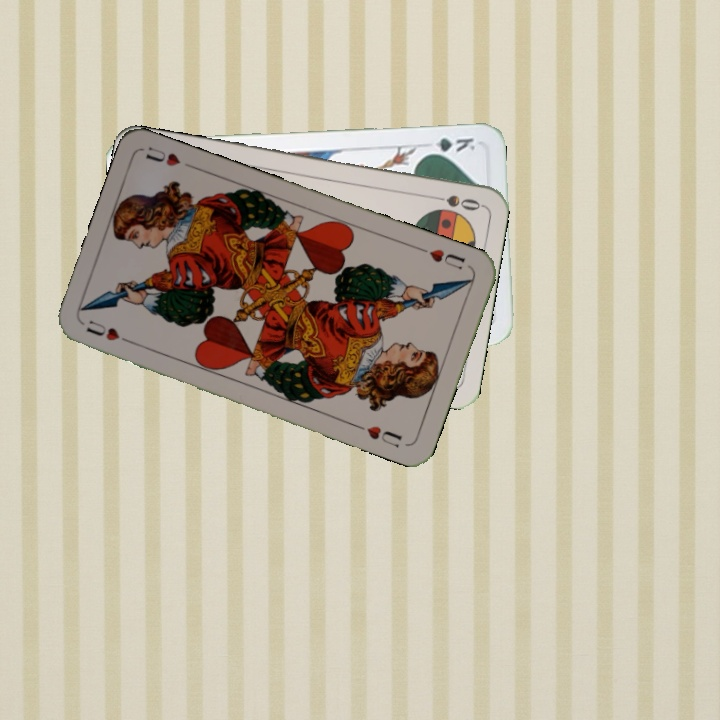GK: (421, 133, 478, 157)
HU: (82, 316, 137, 348), (415, 243, 468, 273)
SO: (424, 191, 483, 214)
